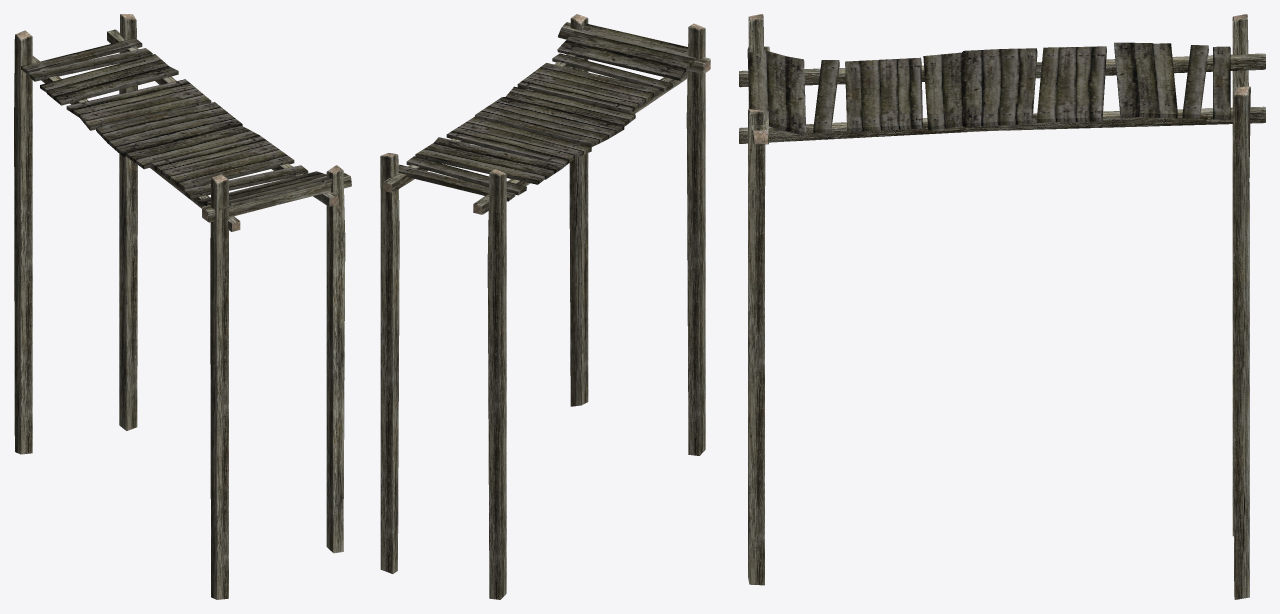
Rendered from TW2_1_HUT_02_5-transformed.glb.
The picture shows the model from 3 angles, left to right: view 1: azimuth 30°, elevation 25°; view 2: azimuth 150°, elevation 25°; view 3: azimuth 270°, elevation 25°; orthographic projection. The views are drawn at different scales.
Parts seen in each view (by area): view 1: default; view 2: default; view 3: default.
Part boxes in pixels (x1,y1,x2,y2): default: (14, 14, 351, 599); default: (380, 14, 710, 599); default: (739, 14, 1265, 599).
Size of the model in its own units: 3.19 by 8.84 by 8.1.
Materials: 3 (3 with a texture image).
